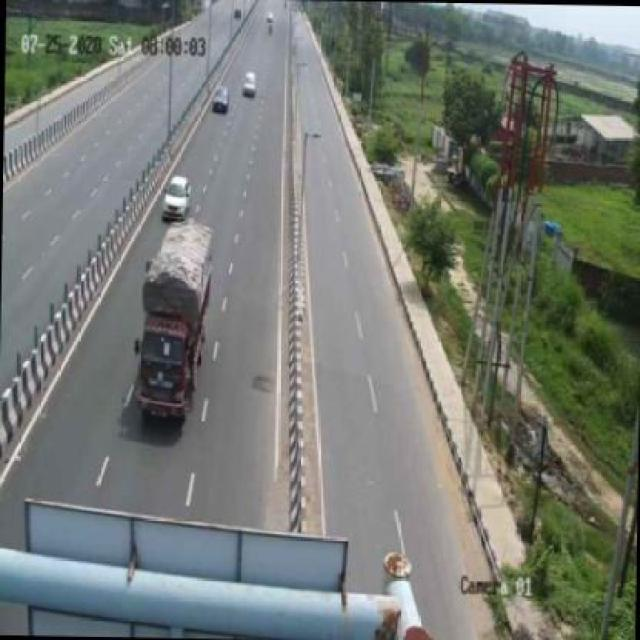car: (162, 172, 196, 223), (237, 68, 261, 103), (210, 81, 232, 117)
